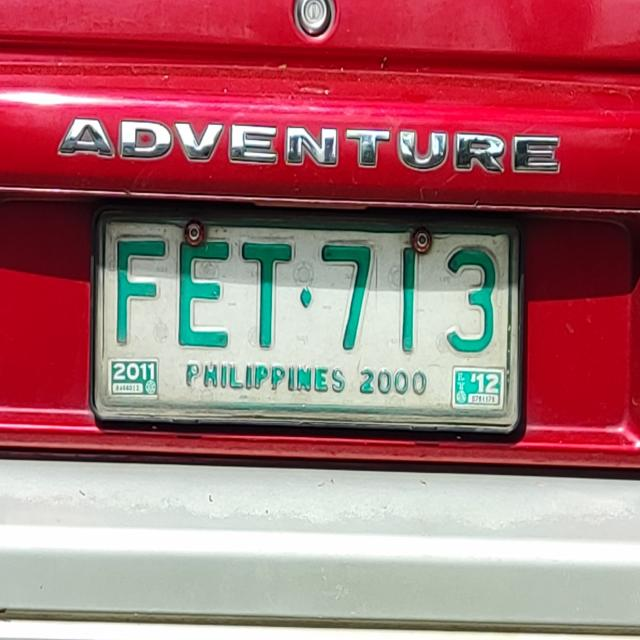plate: (90, 199, 526, 445)
